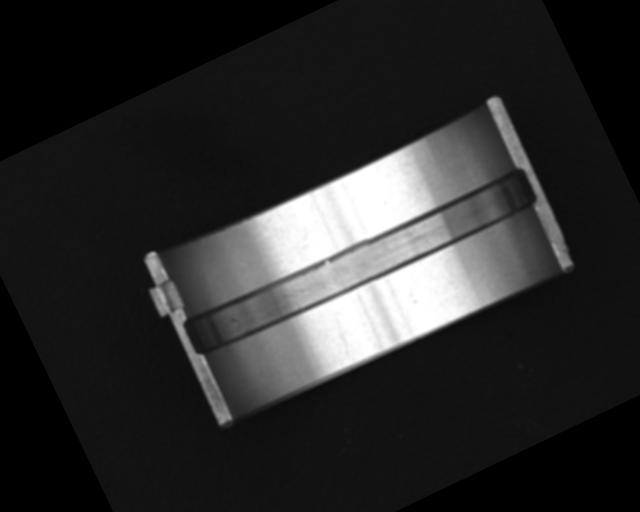gap: (182, 159, 542, 365)
nick: (331, 319, 355, 355)
